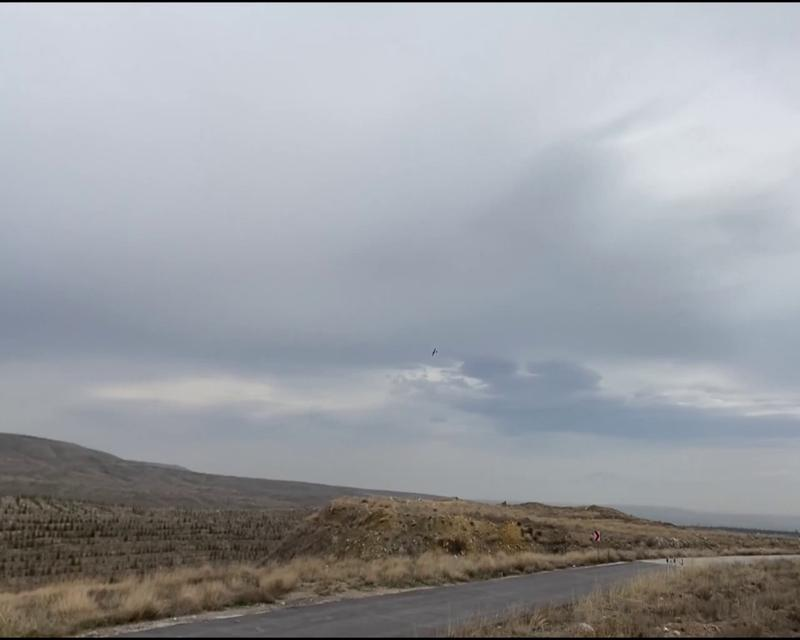UAV: (430, 347, 439, 358)
